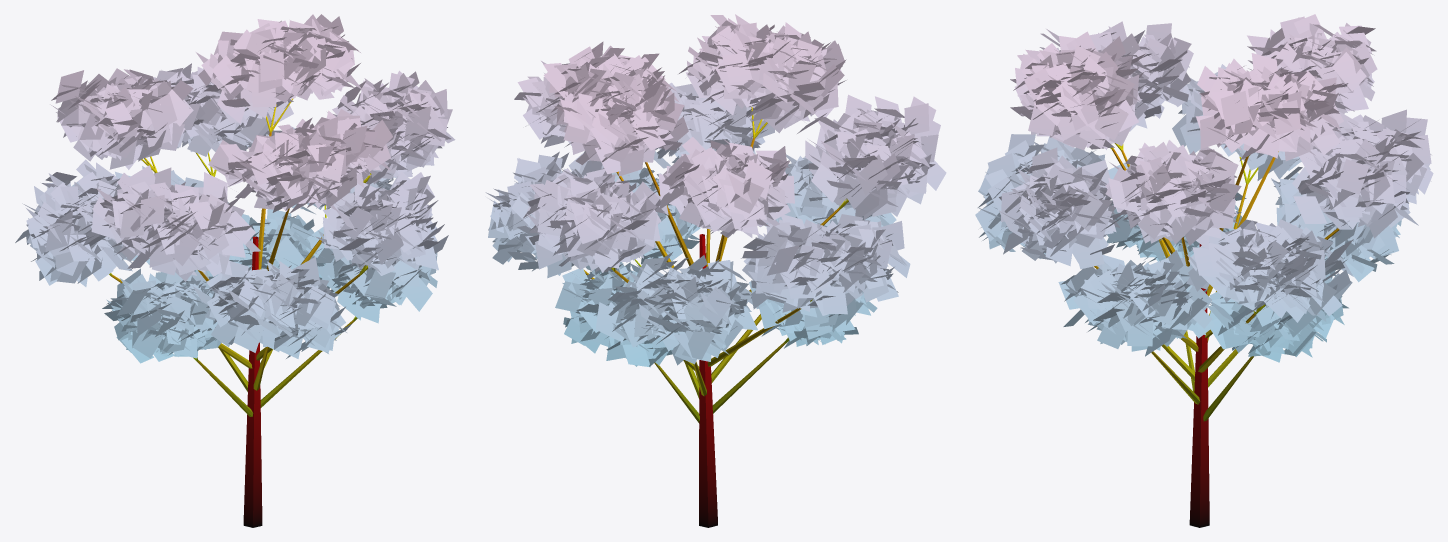
File: sycamore-lod0.glb
The picture shows the model from 3 angles, left to right: view 1: azimuth 30°, elevation 25°; view 2: azimuth 150°, elevation 25°; view 3: azimuth 270°, elevation 25°; orthographic projection. The views are drawn at different scales.
Parts seen in each view (by area): view 1: sycamore canopy, sycamore trunk and branches; view 2: sycamore canopy, sycamore trunk and branches; view 3: sycamore canopy, sycamore trunk and branches.
Part boxes in pixels (x1,y1,x2,y2): sycamore canopy: (15, 14, 455, 363); sycamore trunk and branches: (109, 98, 371, 527); sycamore canopy: (485, 14, 946, 367); sycamore trunk and branches: (584, 107, 848, 527); sycamore canopy: (975, 14, 1433, 362); sycamore trunk and branches: (1094, 143, 1339, 527).
Bounding box in the file's own units: 13.02 × 14.88 × 12.76.
